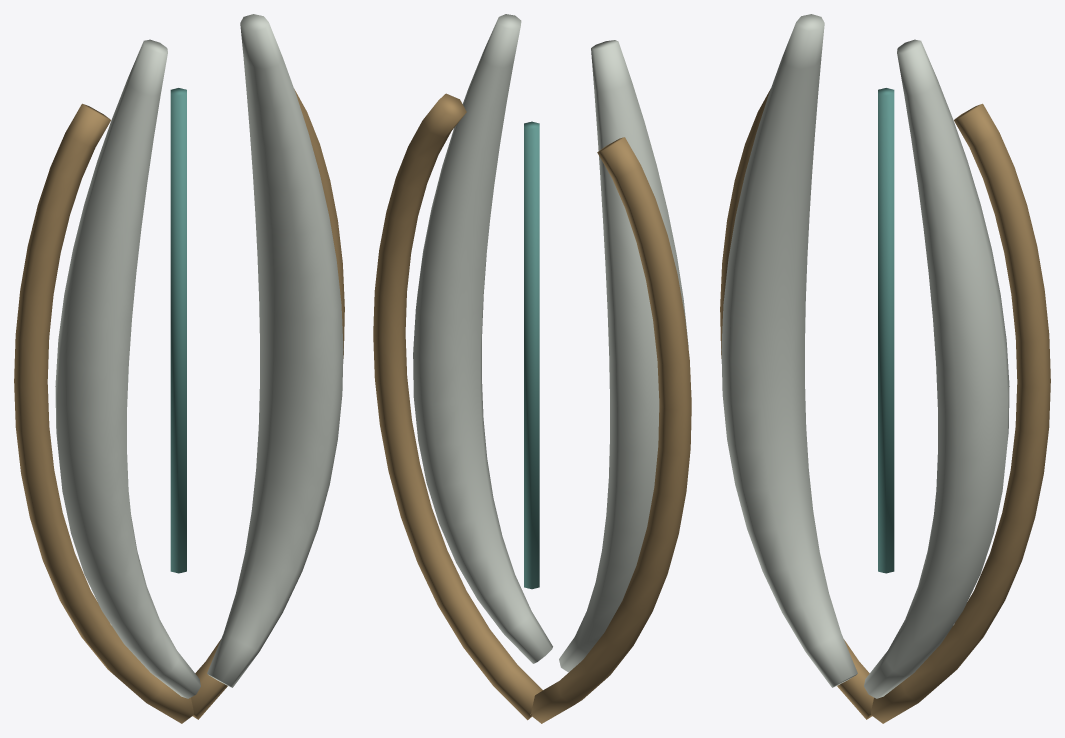
The model's file is tideweave-resonator.glb.
3 views of the same model, side by side, from view 1: azimuth 30°, elevation 25°; view 2: azimuth 150°, elevation 25°; view 3: azimuth 330°, elevation 25° (orthographic). The views are drawn at different scales.
Parts seen in each view (by area): view 1: TideweaveResonator | Tideweave | porcelain, TideweaveResonator | Tideweave | aged brass, TideweaveResonator | Tideweave | patinated bronze; view 2: TideweaveResonator | Tideweave | porcelain, TideweaveResonator | Tideweave | aged brass, TideweaveResonator | Tideweave | patinated bronze; view 3: TideweaveResonator | Tideweave | porcelain, TideweaveResonator | Tideweave | aged brass, TideweaveResonator | Tideweave | patinated bronze.
Boxes of the visible parts, box(x1,y1,x2,y2) form: TideweaveResonator | Tideweave | porcelain: box(55, 14, 343, 698); TideweaveResonator | Tideweave | aged brass: box(14, 89, 344, 723); TideweaveResonator | Tideweave | patinated bronze: box(170, 88, 186, 573); TideweaveResonator | Tideweave | porcelain: box(413, 14, 688, 672); TideweaveResonator | Tideweave | aged brass: box(373, 93, 691, 723); TideweaveResonator | Tideweave | patinated bronze: box(524, 121, 539, 589); TideweaveResonator | Tideweave | porcelain: box(721, 14, 1009, 698); TideweaveResonator | Tideweave | aged brass: box(720, 89, 1050, 723); TideweaveResonator | Tideweave | patinated bronze: box(878, 88, 894, 573).
Size of the model in its own units: 0.1771 by 0.3671 by 0.0475.
